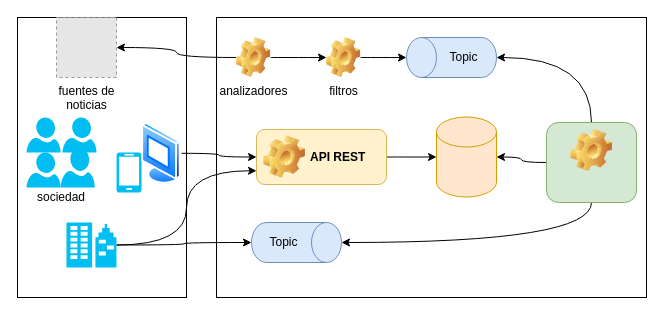
The diagram is 664 pixels wide and 315 high, and some of its shapes have lost their labels. Grey dashed boxes stand in for pictures. The shapes that lost their labels are listed below. From the top down, each one's centre as x and y in pixels, then its label:
the point at 466,156: Repositorio
the point at 591,162: machine learning
the point at 91,244: Medios de Comunicación
